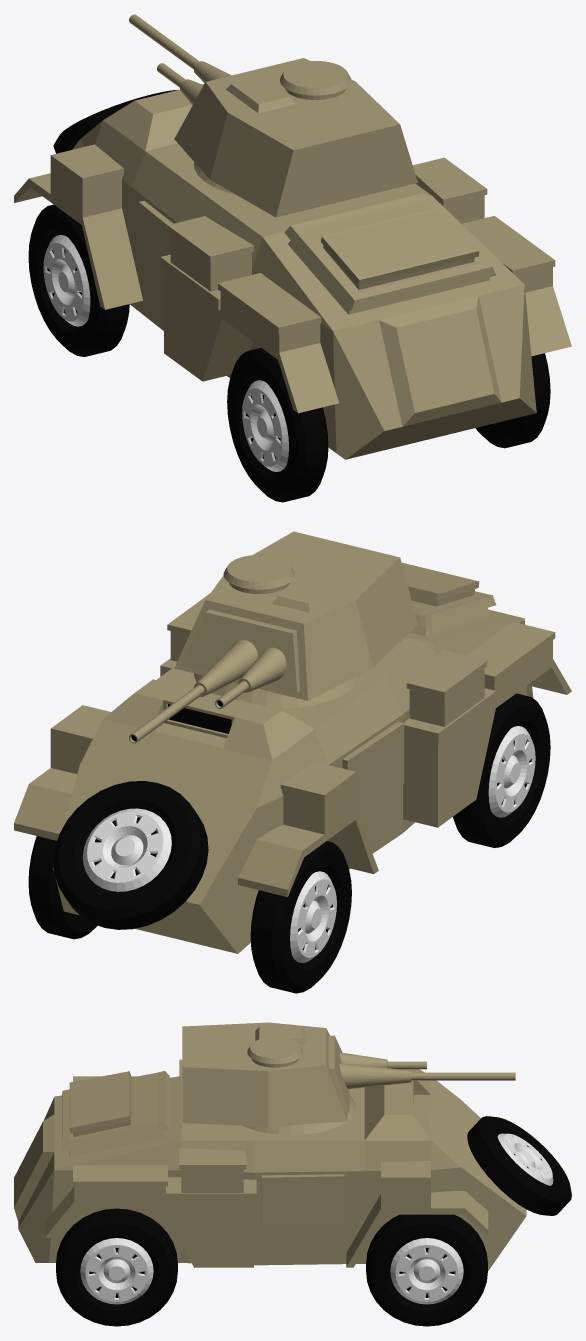
The model's file is humber.glb.
The picture shows the model from 3 angles, top to bottom: view 1: azimuth 30°, elevation 25°; view 2: azimuth 150°, elevation 25°; view 3: azimuth 270°, elevation 25°; orthographic projection. The views are drawn at different scales.
Parts seen in each view (by area): view 1: body, turrent, wheel_BL, wheel_FL, wheel_BR, gun; view 2: body, turrent, wheel_FL, wheel_BL, gun, wheel_FR; view 3: body, turrent, wheel_BR, wheel_FR, gun.
Boxes of the visible parts, x1=… form: body: x1=14, y1=83, x2=571, y2=459; turrent: x1=174, y1=58, x2=417, y2=217; wheel_BL: x1=227, y1=347, x2=328, y2=502; wheel_FL: x1=28, y1=204, x2=129, y2=356; wheel_BR: x1=475, y1=353, x2=550, y2=448; gun: x1=129, y1=14, x2=231, y2=105; body: x1=14, y1=562, x2=571, y2=953; turrent: x1=174, y1=531, x2=417, y2=708; wheel_FL: x1=250, y1=841, x2=351, y2=993; wheel_BL: x1=453, y1=693, x2=550, y2=847; gun: x1=129, y1=640, x2=286, y2=743; wheel_FR: x1=28, y1=836, x2=97, y2=939; body: x1=14, y1=1059, x2=571, y2=1270; turrent: x1=182, y1=1022, x2=356, y2=1135; wheel_BR: x1=56, y1=1208, x2=177, y2=1326; wheel_FR: x1=366, y1=1214, x2=487, y2=1326; gun: x1=339, y1=1052, x2=515, y2=1088.
Bounding box in the file's own units: 1.94 × 2.08 × 4.31.
